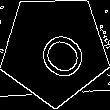O_NW: (23, 18, 87, 81)
